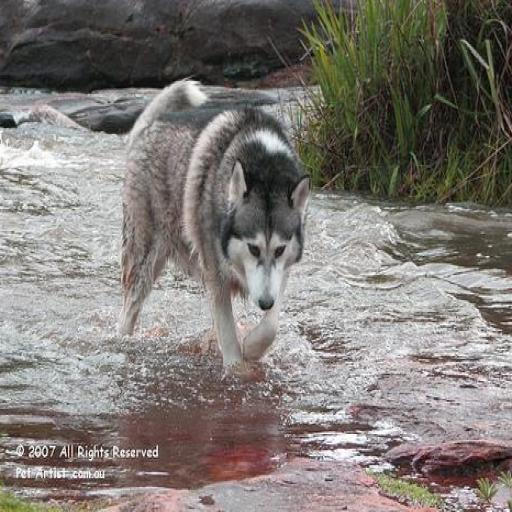dog_face: (222, 164, 310, 307)
